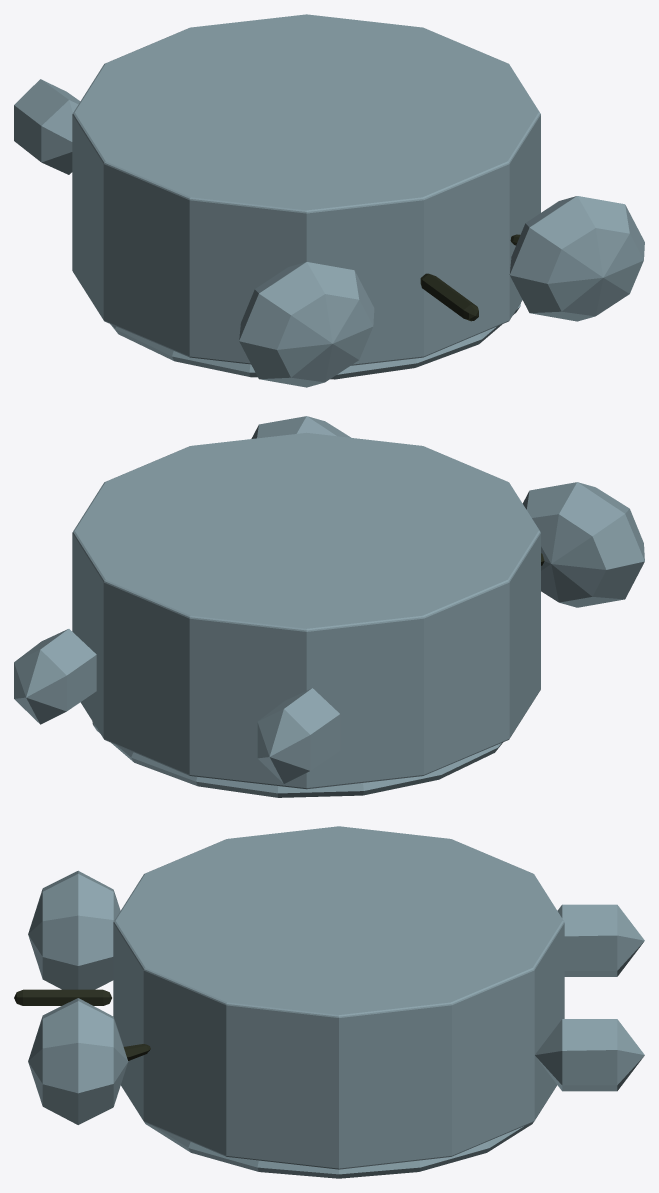
Rendered from alarm_clock.glb.
The picture shows the model from 3 angles, top to bottom: view 1: azimuth 30°, elevation 25°; view 2: azimuth 150°, elevation 25°; view 3: azimuth 270°, elevation 25°; orthographic projection. The views are drawn at different scales.
Visible parts, largest first — view 1: alarm_clock; view 2: alarm_clock; view 3: alarm_clock.
Part boxes in pixels (box(x1,y1,x2,y2)): alarm_clock: box(14, 14, 644, 387); alarm_clock: box(14, 416, 644, 797); alarm_clock: box(14, 826, 644, 1178).
Size of the model in its own units: 0.09 by 0.0419 by 0.1258.
